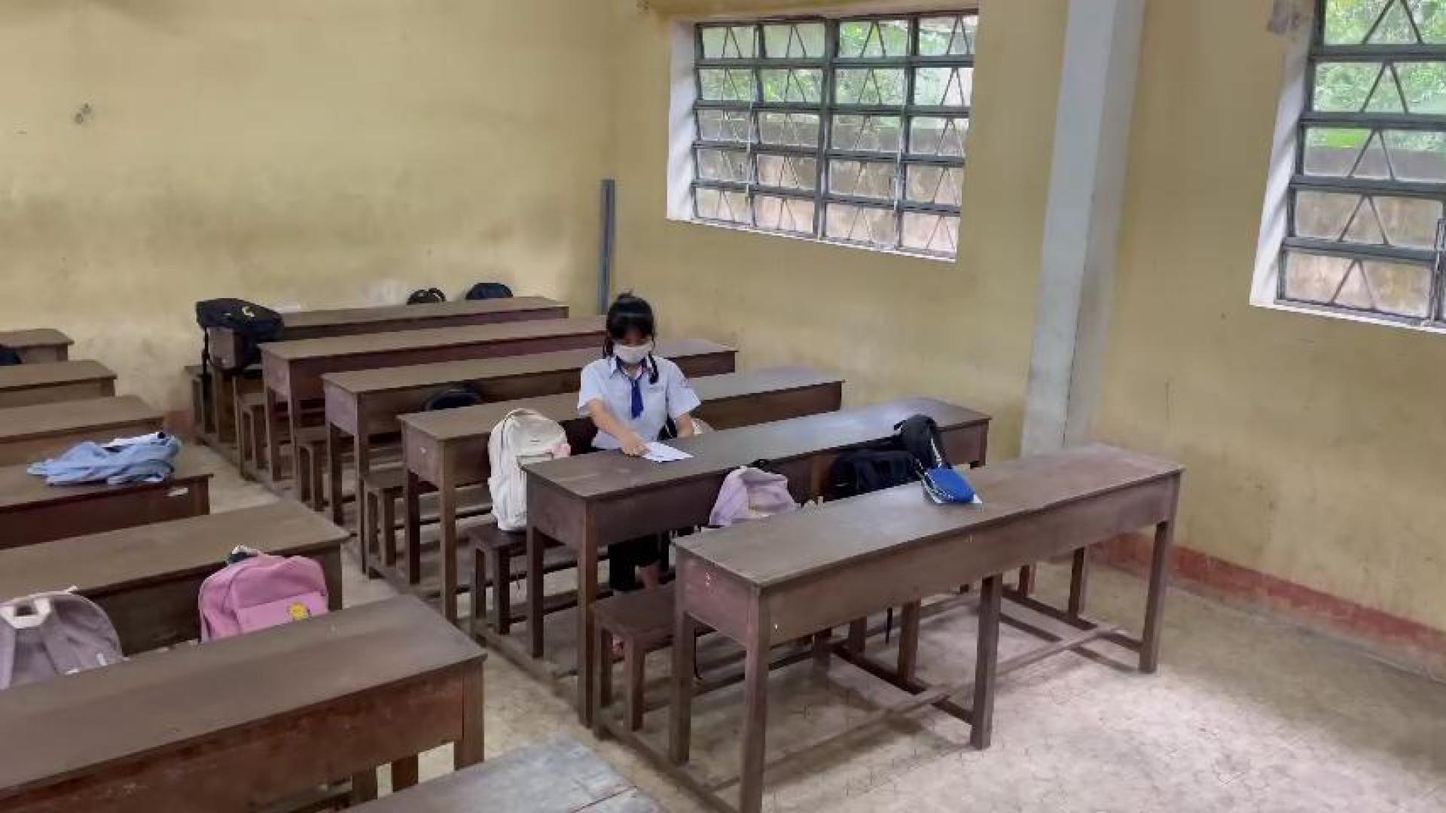Bend Over The Desk: (587, 274, 669, 376)
Hand Under Table: (652, 349, 704, 451)
